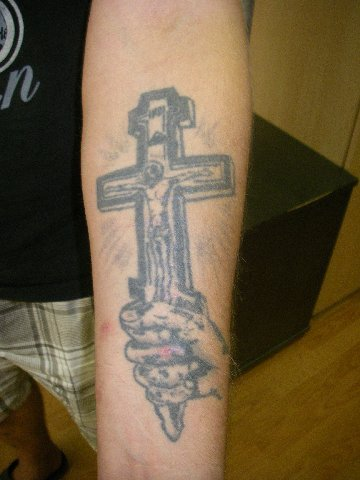tatu9_krest: (89, 81, 222, 418)
